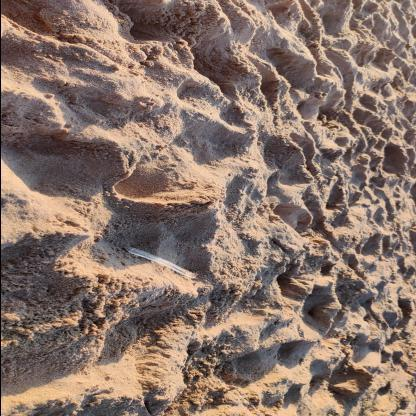plastik: (127, 249, 199, 280)
